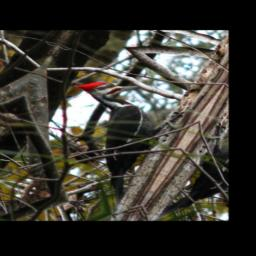Woodpecker: (15, 69, 195, 206)
